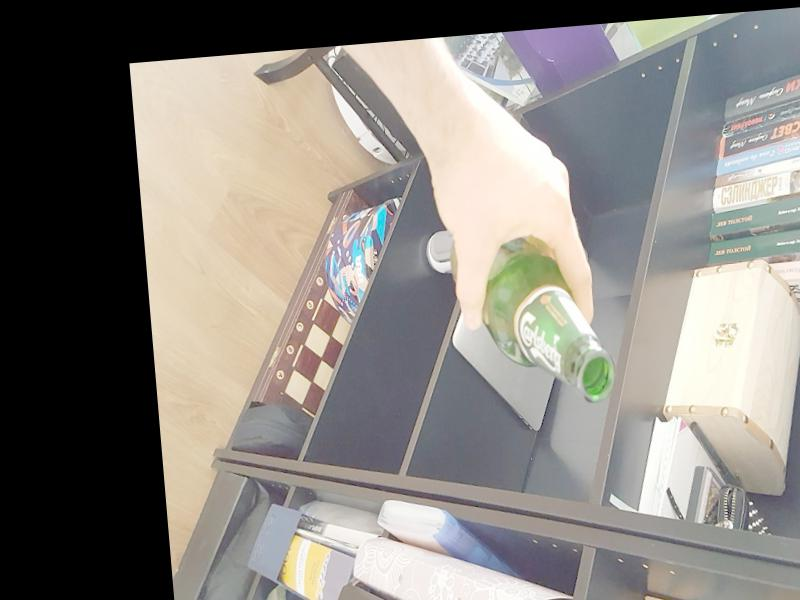Beer: (447, 219, 615, 414)
